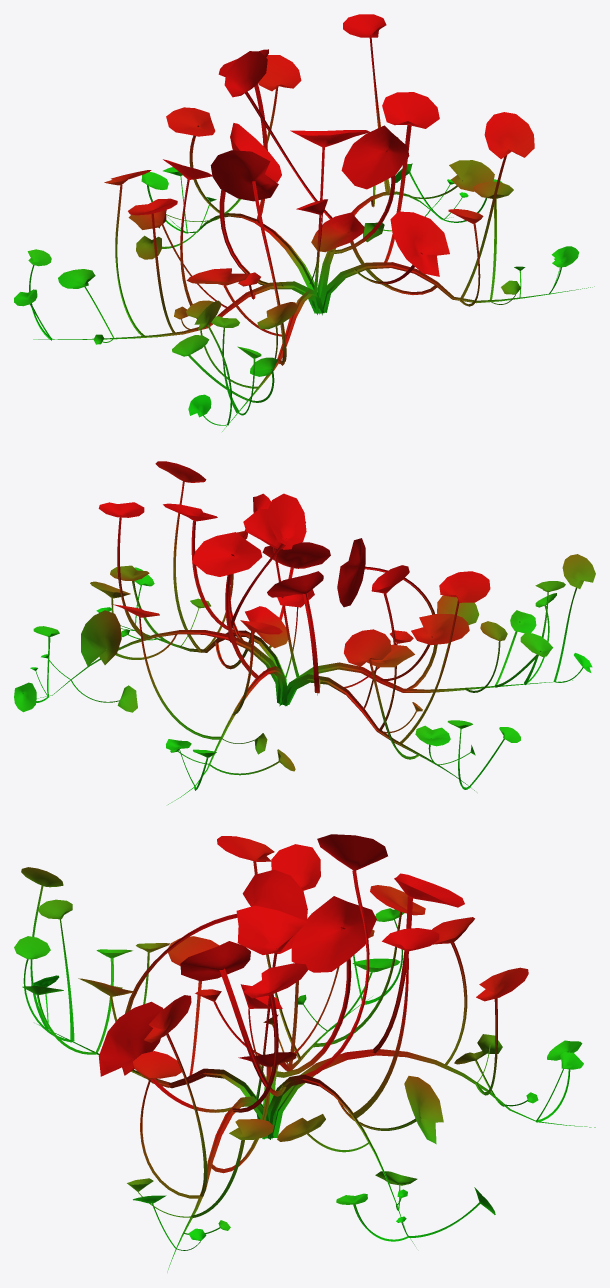
Rendered from Var2_LOD0.fbx.
3 views of the same model, one above another, from view 1: azimuth 30°, elevation 25°; view 2: azimuth 150°, elevation 25°; view 3: azimuth 270°, elevation 25° (orthographic). The views are drawn at different scales.
Visible parts, largest first — view 1: _3b06_Var2_LOD0; view 2: _3b06_Var2_LOD0; view 3: _3b06_Var2_LOD0.
Boxes of the visible parts, bbox=[...] form: _3b06_Var2_LOD0: bbox=[14, 14, 594, 431]; _3b06_Var2_LOD0: bbox=[14, 461, 595, 804]; _3b06_Var2_LOD0: bbox=[14, 834, 595, 1272].
Bounding box in the file's own units: 46.42 × 21.21 × 38.64.
